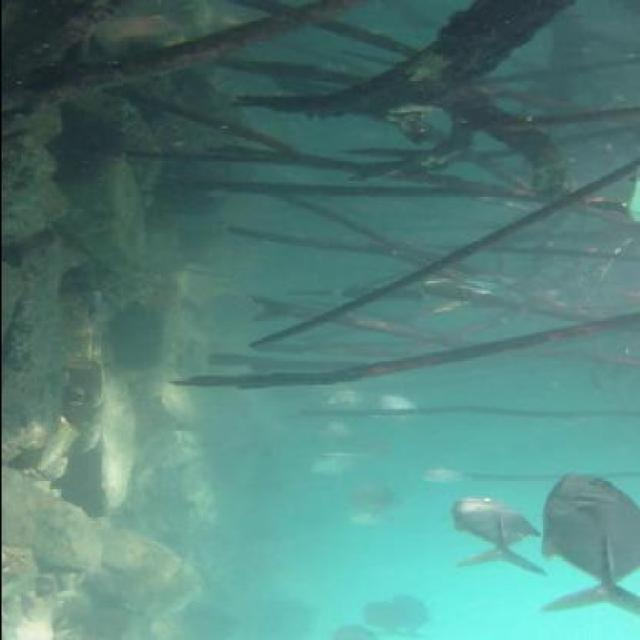Caranx_sexfasciatus_juvenile: (531, 470, 640, 618), (439, 491, 547, 575), (342, 477, 406, 534), (399, 278, 495, 316), (305, 378, 386, 420), (446, 258, 523, 296), (301, 445, 381, 481), (382, 595, 446, 639), (407, 459, 481, 492), (360, 391, 429, 424), (362, 592, 410, 638), (306, 418, 369, 449)
